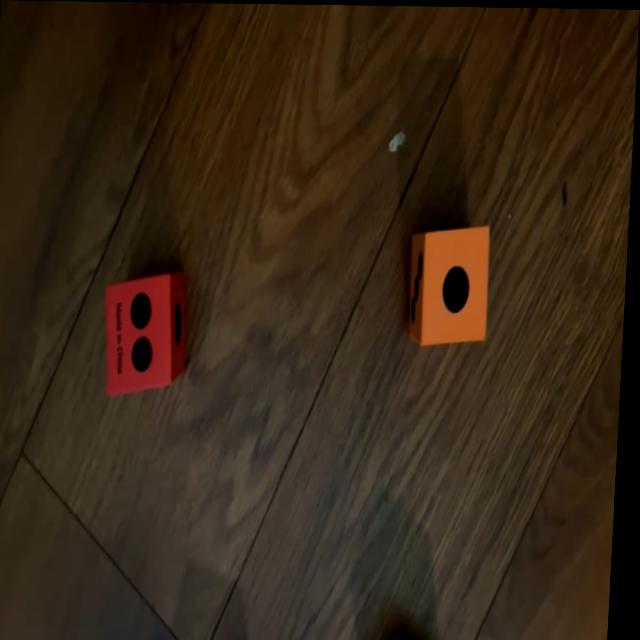red_block: (102, 269, 193, 400)
